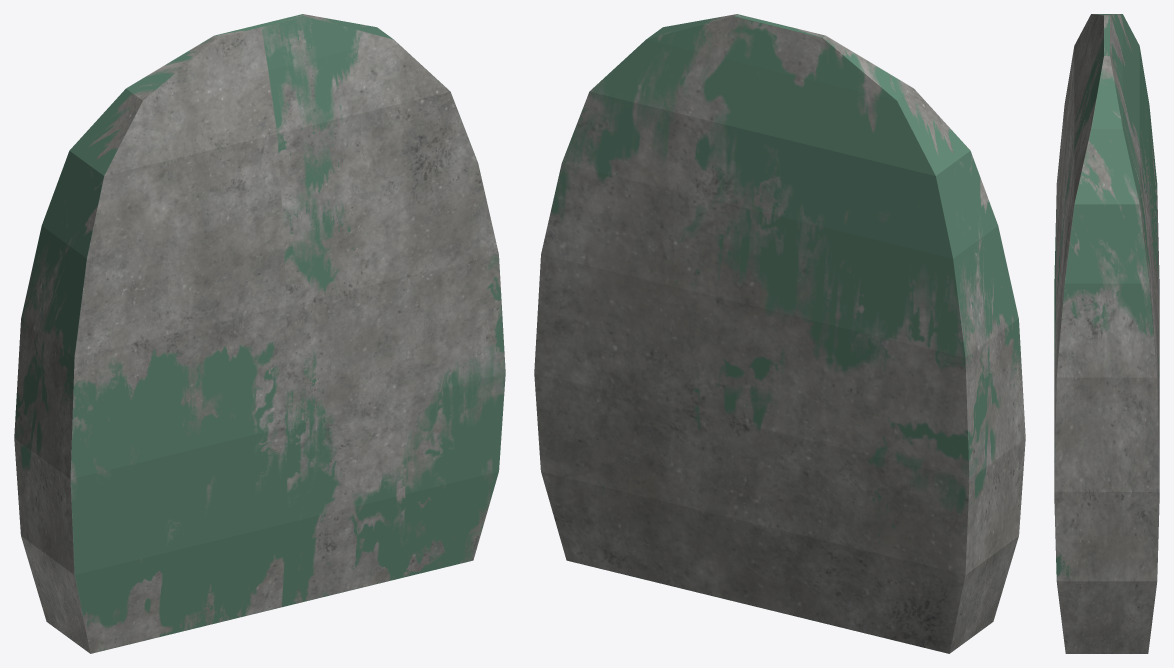
Rendered from UsualGravestone_Ready.fbx.
3 views of the same model, side by side, from view 1: azimuth 30°, elevation 25°; view 2: azimuth 150°, elevation 25°; view 3: azimuth 270°, elevation 25° (orthographic). The views are drawn at different scales.
Visible parts, largest first — view 1: Usual Gravestone; view 2: Usual Gravestone; view 3: Usual Gravestone.
Part boxes in pixels (x1,y1,x2,y2): Usual Gravestone: (14,14,505,653); Usual Gravestone: (534,14,1025,653); Usual Gravestone: (1054,14,1159,653).
Size of the model in its own units: 319 by 396 by 71.5.
